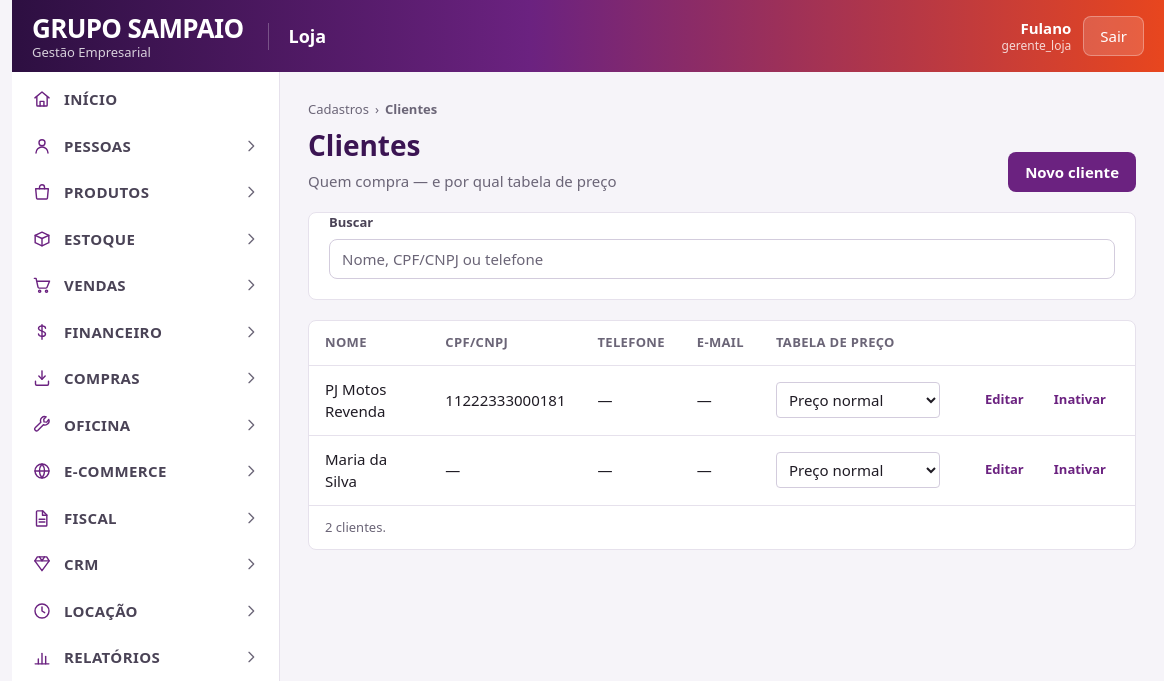
it: o gerente liga o cliente à tabela › diz o que passa a valer, e a partir de quando
Select "Atacado (-15.00%)" in the dropdown named "Tabela de preço de PJ Motos Revenda" at (858, 400), box [776,382,940,418]
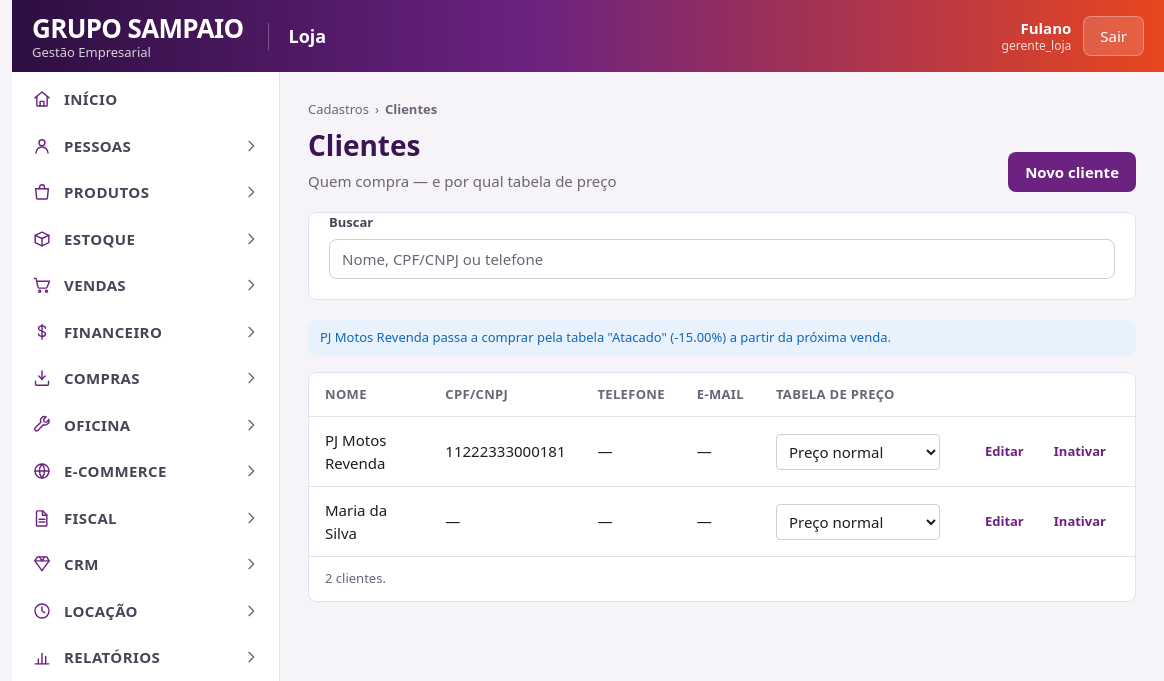
Check: the message shows "PJ Motos Revenda", box [320,328,891,346]
Check: the message shows "Atacado", box [320,328,891,346]
Check: the message shows "15.00%", box [320,328,891,346]
